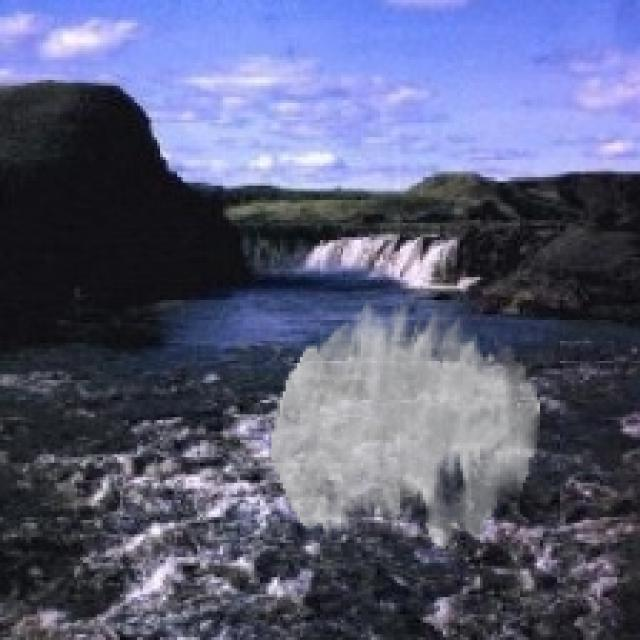smoke: (271, 300, 540, 549)
